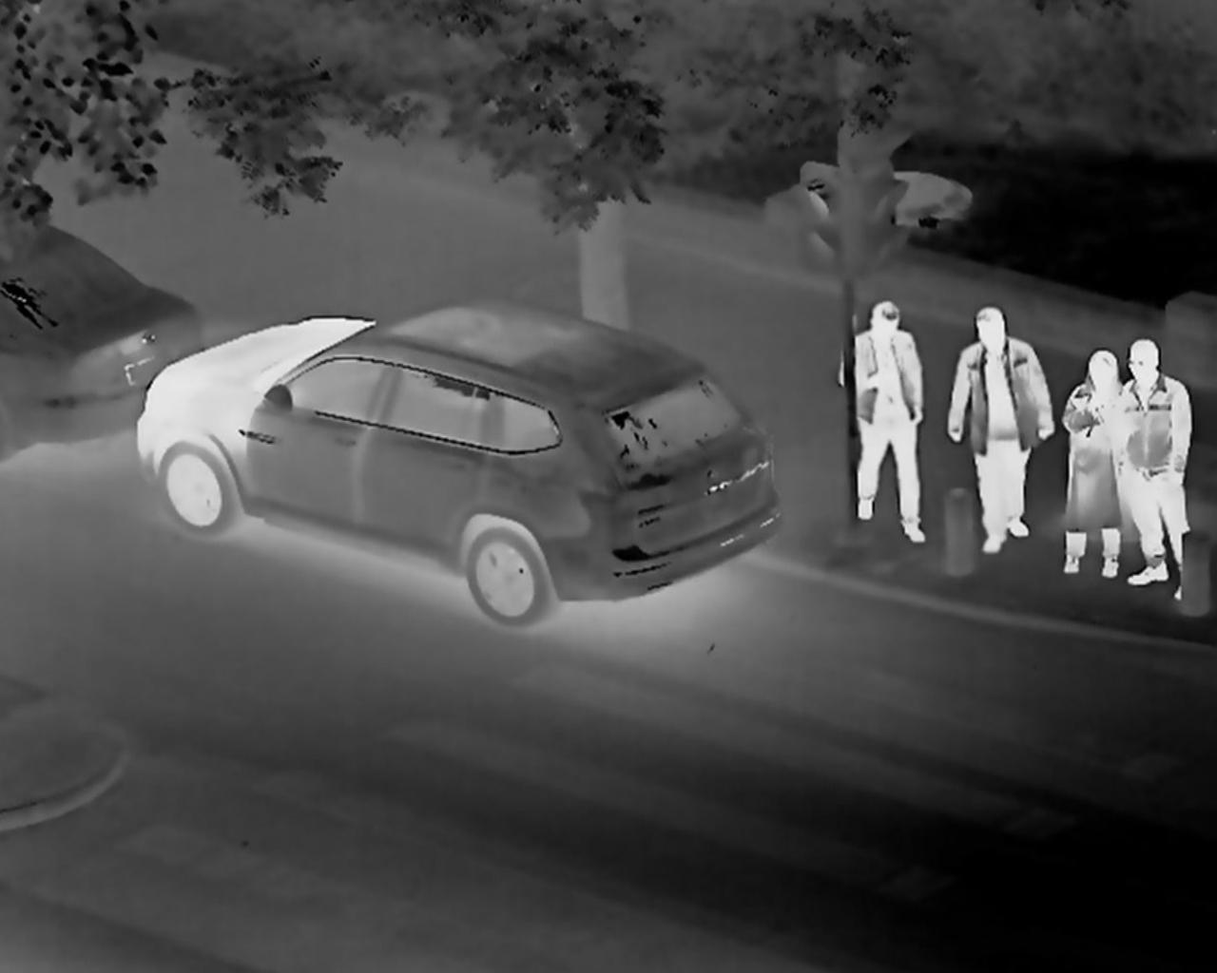person: (1116, 322, 1207, 590), (846, 294, 937, 544), (950, 292, 1019, 551), (1060, 348, 1118, 563)
